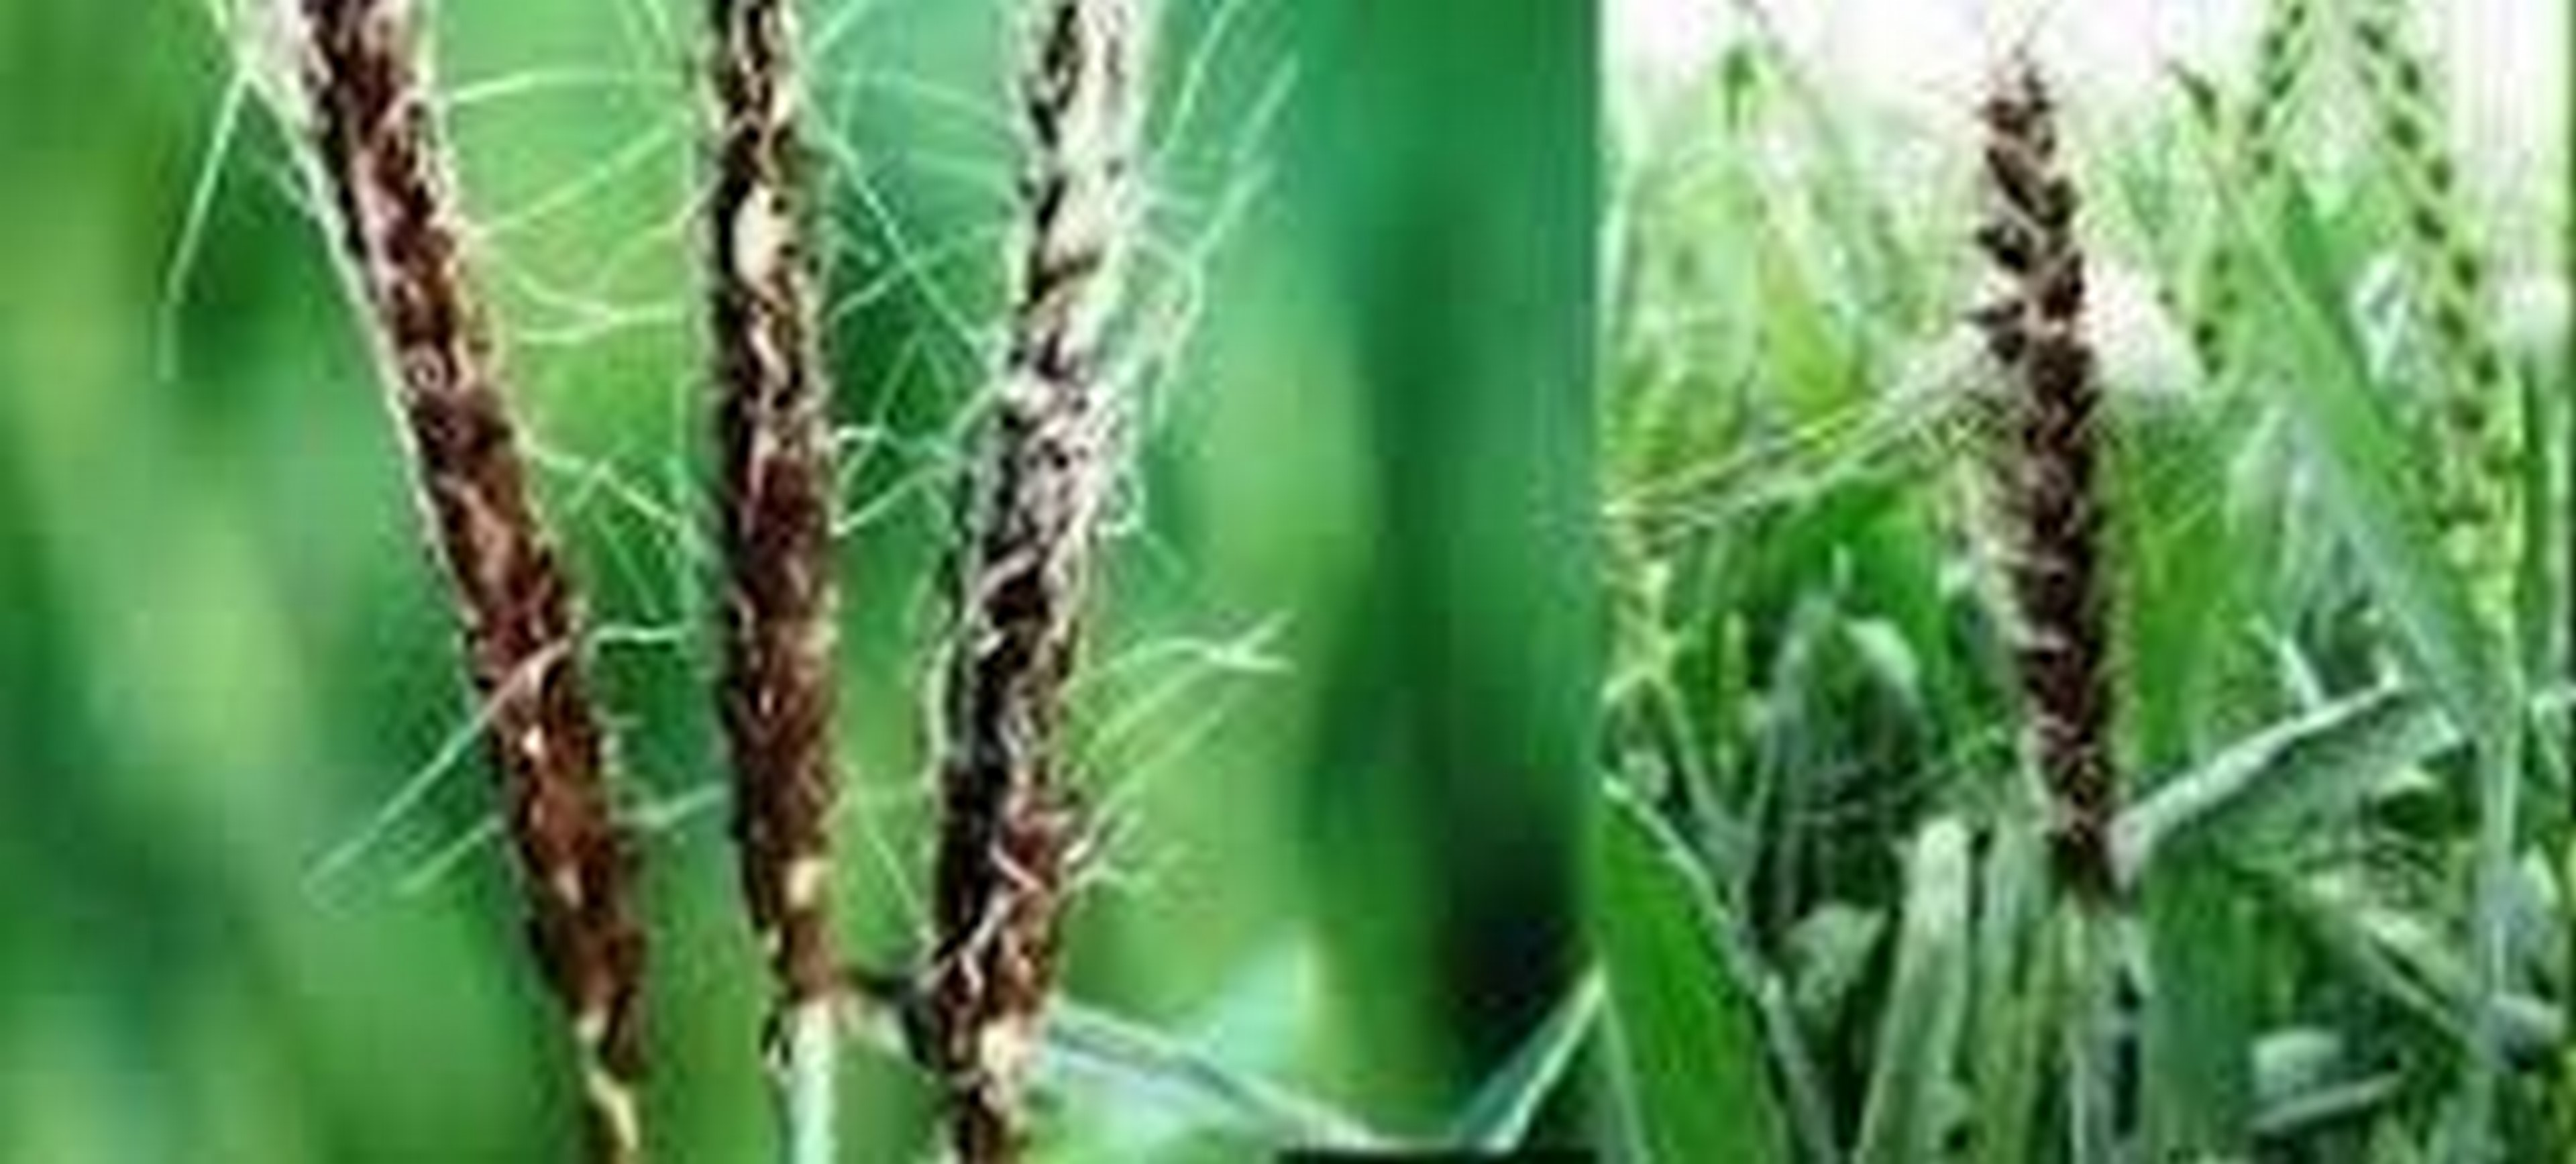Wheat Loose Smut: (310, 66, 1201, 1092), (1929, 59, 2224, 921)
